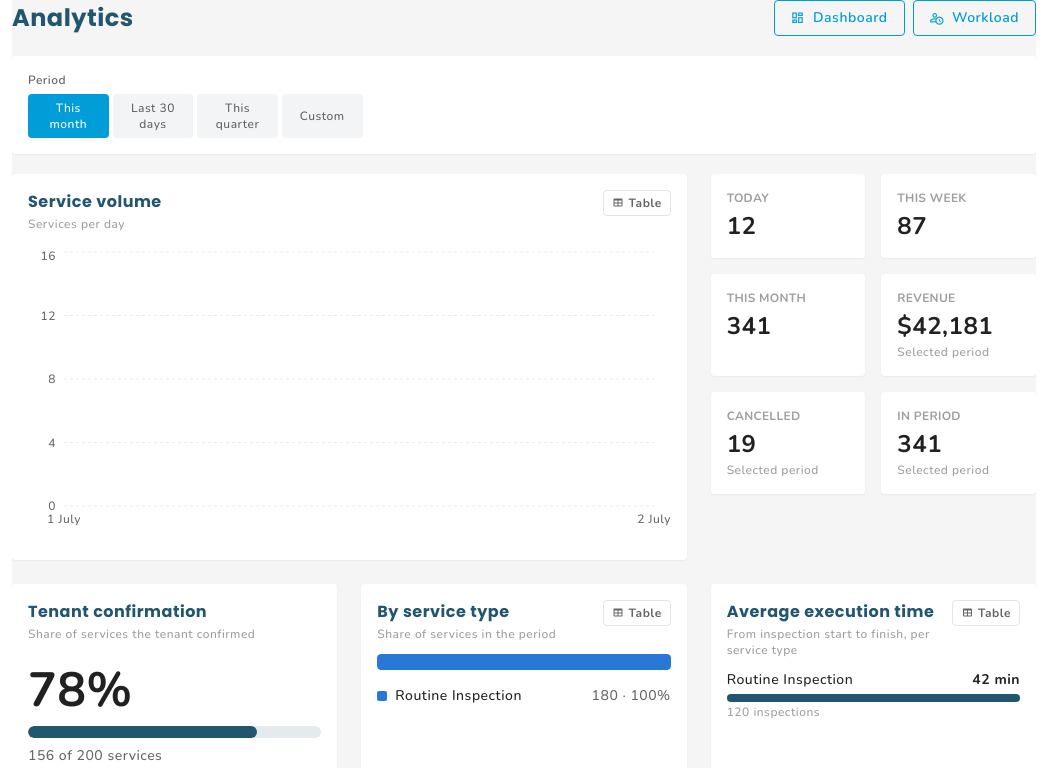
Test case: AnalyticsPage — header cross-navigation › navigates to /inspector-workload when the Workload action is clicked
What coordinates should you click on to do the following:
click the button "Workload"
I would click on:
 (974, 18)
Its box is x1=913 y1=0 x2=1036 y2=36.
(page scrolled)
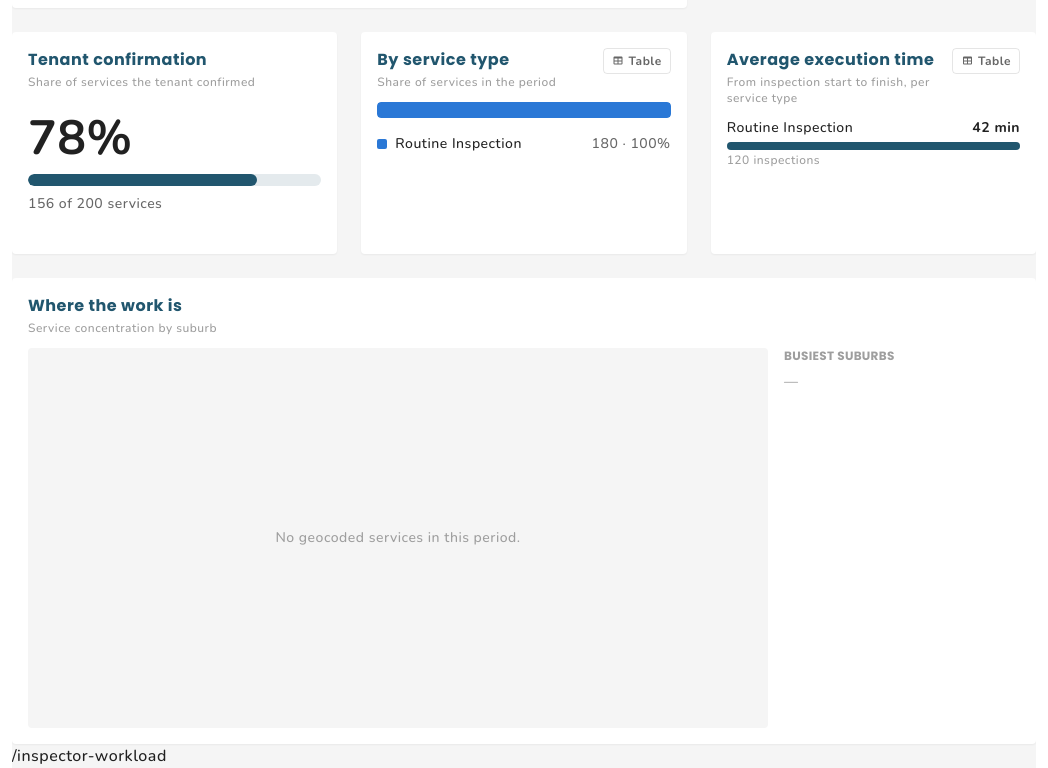
Check: the text with test id "location-display" reads "/inspector-workload", box x1=12 y1=745 x2=167 y2=767
